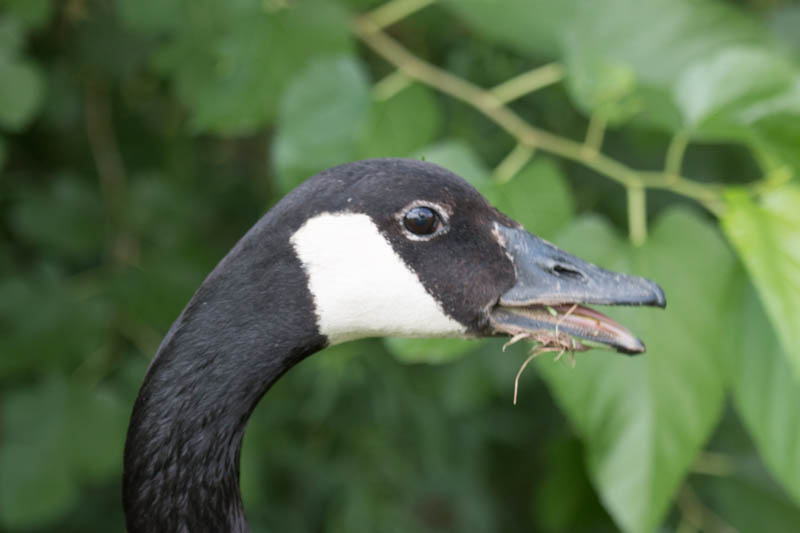goose-head: (210, 158, 669, 348)
